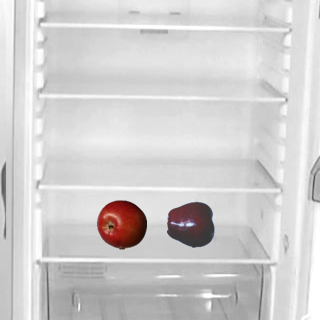Apple Braeburn: (96, 199, 146, 249)
Apple Red Delicious: (166, 199, 216, 249)
